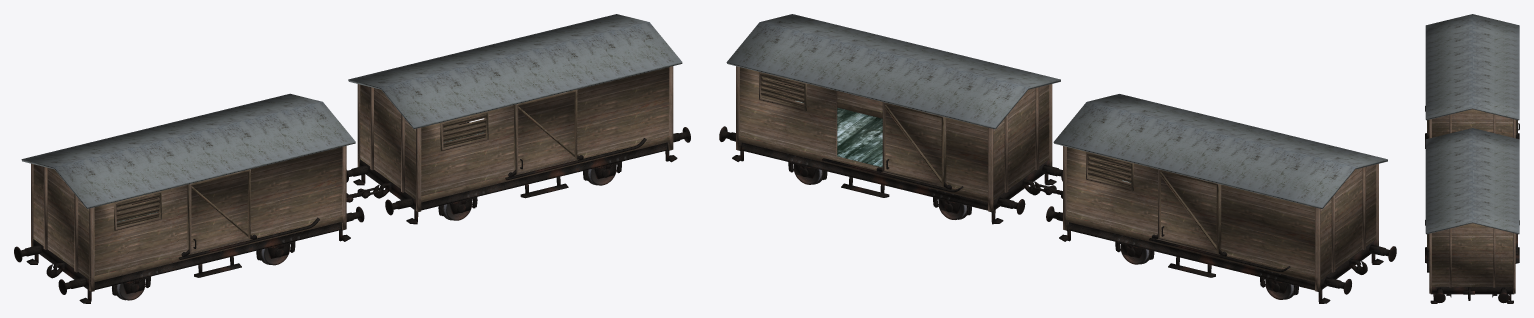
The model's file is wagon.obj.
3 views of the same model, side by side, from view 1: azimuth 30°, elevation 25°; view 2: azimuth 150°, elevation 25°; view 3: azimuth 270°, elevation 25° (orthographic). The views are drawn at different scales.
Parts seen in each view (by area): view 1: Box09; view 2: Box09; view 3: Box09.
Part boxes in pixels (bbox=[...]): Box09: bbox=[14, 14, 690, 303]; Box09: bbox=[719, 14, 1396, 303]; Box09: bbox=[1425, 14, 1519, 303].
Bounding box in the file's own units: 13.84 × 2.87 × 2.54.
1 material, 1 textured.
